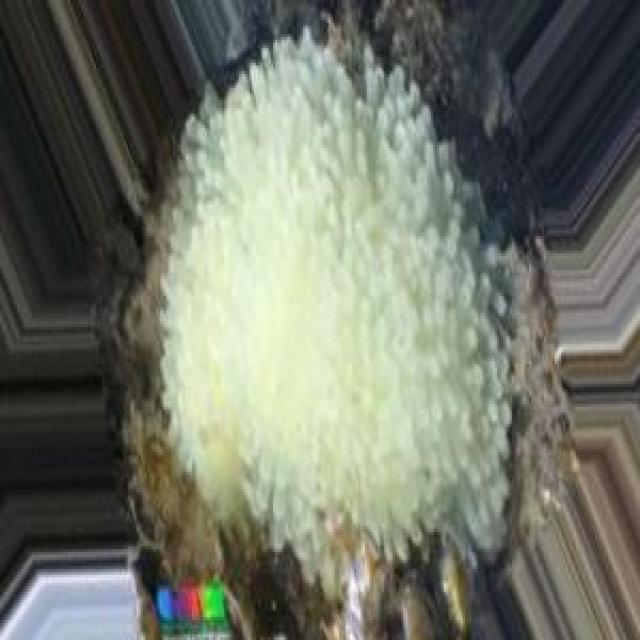Bleached: (163, 38, 524, 567)
